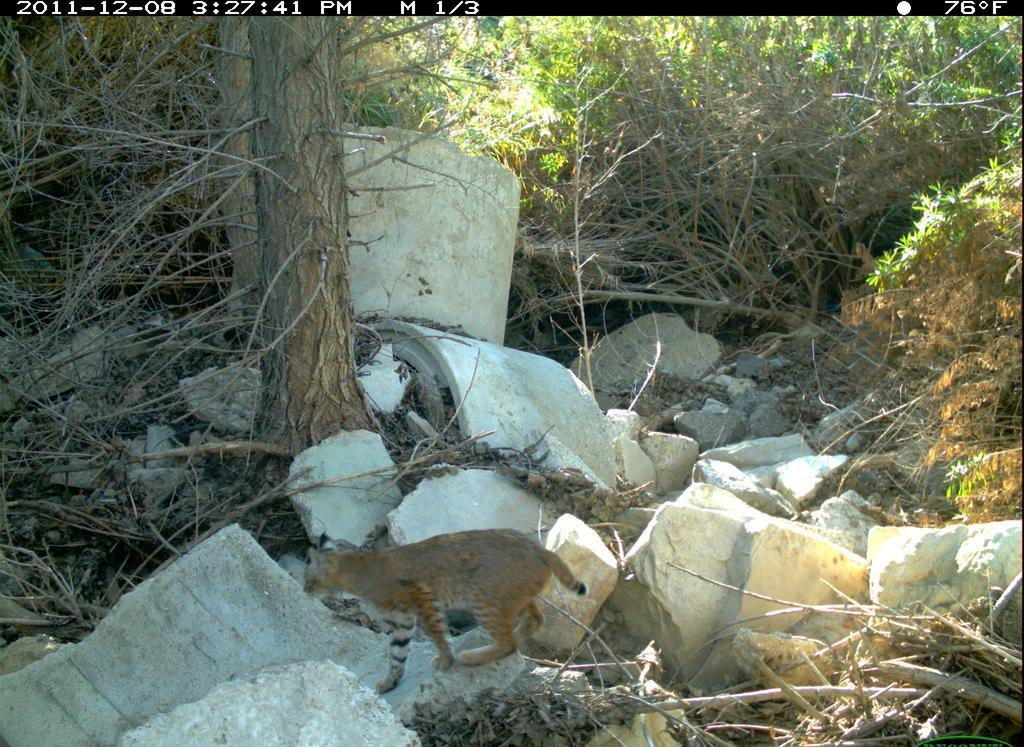bobcat: (300, 543, 593, 702)
